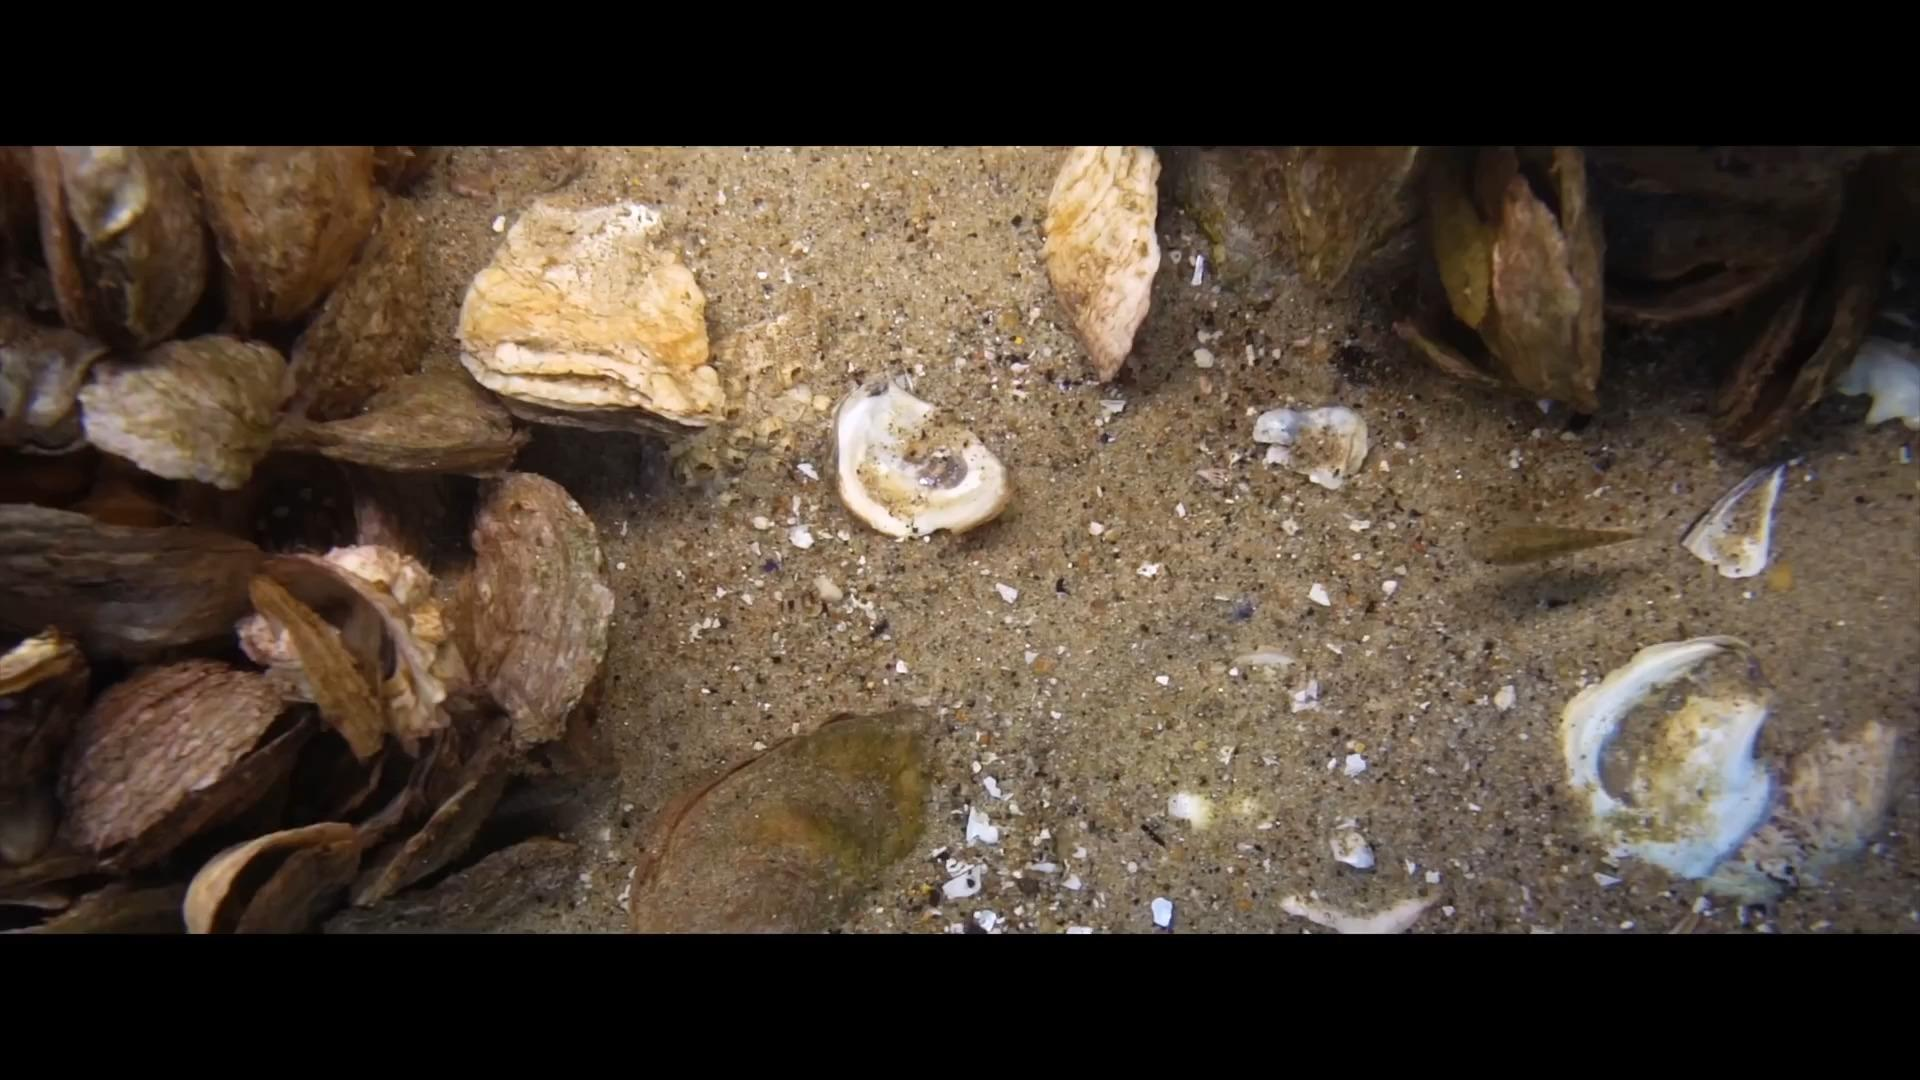Oyster: (628, 707, 942, 932), (455, 196, 724, 431), (1394, 148, 1604, 410), (1559, 637, 1774, 882), (243, 541, 468, 749), (454, 469, 617, 753), (0, 500, 269, 663), (183, 148, 388, 338), (280, 193, 450, 419), (29, 149, 210, 357), (78, 335, 290, 491), (277, 361, 524, 479), (1040, 148, 1163, 381), (1273, 148, 1425, 291), (187, 822, 363, 932), (1, 314, 113, 452), (0, 625, 87, 702)
